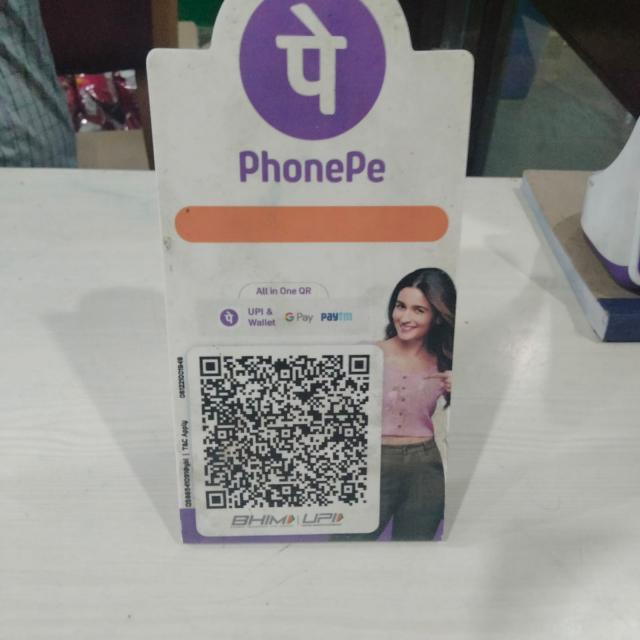Others: (136, 42, 464, 527)
